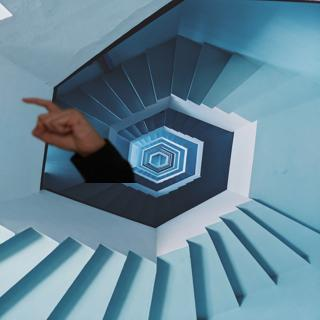WHY: (18, 89, 104, 154)
